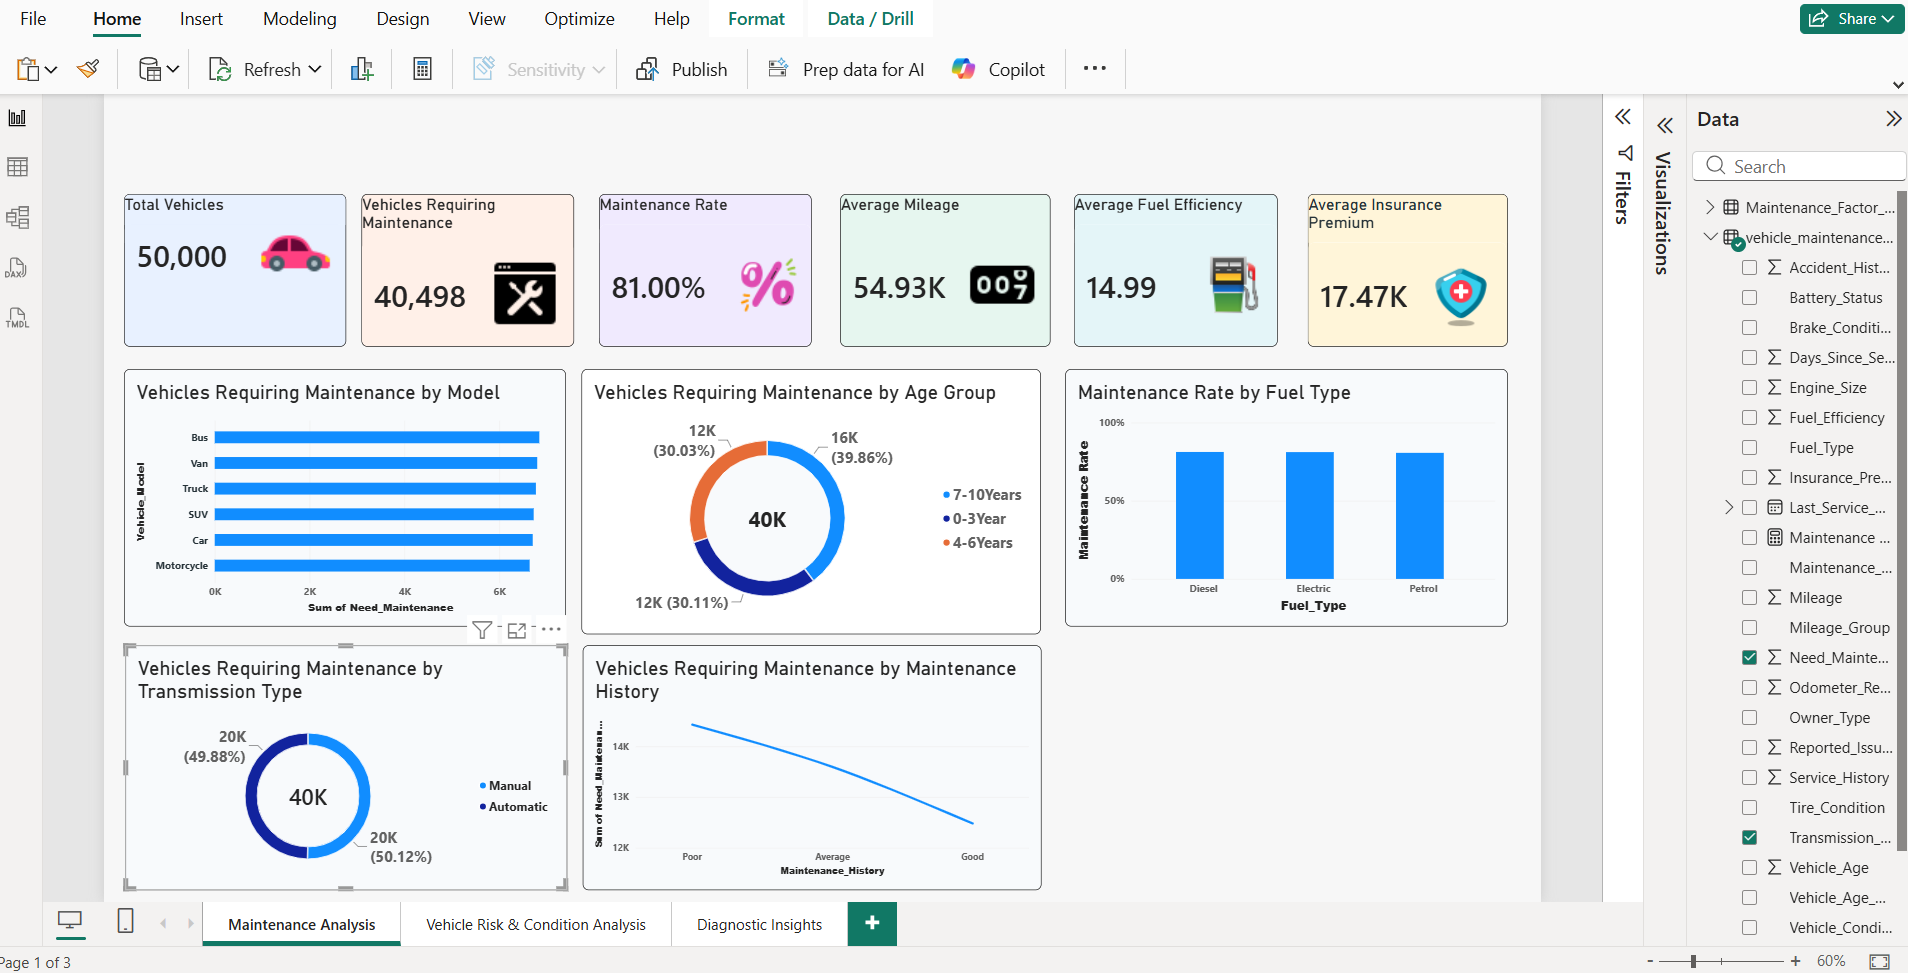

This screenshot's page, from the dashboard's own definition file:
{"tool":"powerbi","page":{"name":"Maintenance Analysis","canvas":[1920,1080],"ordinal":0},"visuals":[{"type":"cardVisual","title":"Total Vehicles","fields":{"Data":["CountNonNull(vehicle_maintenance_final.Vehicle_Model)"]},"box":[26.2,134.3,296.5,204.1],"z":1000},{"type":"cardVisual","title":"Vehicles Requiring Maintenance","fields":{"Data":["Sum(vehicle_maintenance_final.Need_Maintenance)"]},"box":[343.6,134.3,284.3,204.1],"z":2000},{"type":"cardVisual","title":"Maintenance Rate","fields":{"Data":["vehicle_maintenance_final.Maintenance Rate"]},"box":[661,134.3,284.3,204.1],"z":3000},{"type":"cardVisual","title":"Average Mileage","fields":{"Data":["Avg(vehicle_maintenance_final.Mileage)"]},"box":[983.7,134.3,280.8,204.1],"z":4000},{"type":"cardVisual","title":"Average Fuel Efficiency","fields":{"Data":["Avg(vehicle_maintenance_final.Fuel_Efficiency)"]},"box":[1295.9,134.3,272.1,204.1],"z":5000},{"type":"cardVisual","title":"Average Insurance Premium","fields":{"Data":["Avg(vehicle_maintenance_final.Insurance_Premium)"]},"box":[1608.1,134.3,266.9,204.1],"z":6000},{"type":"clusteredBarChart","title":"Vehicles Requiring Maintenance by Model","fields":{"Category":["vehicle_maintenance_final.Vehicle_Model"],"Y":["Sum(vehicle_maintenance_final.Need_Maintenance)"]},"box":[26.2,368,590.7,343.7],"z":7000},{"type":"donutChart","title":"Vehicles Requiring Maintenance by Age Group","fields":{"Category":["vehicle_maintenance_final.Vehicle_Age_Group"],"Y":["Sum(vehicle_maintenance_final.Need_Maintenance)"]},"box":[638.4,368,614,354.1],"z":8000},{"type":"clusteredColumnChart","title":"Maintenance Rate by Fuel Type","fields":{"Category":["vehicle_maintenance_final.Fuel_Type"],"Y":["vehicle_maintenance_final.Maintenance Rate"]},"box":[1283.7,368,591.3,343.6],"z":9000},{"type":"donutChart","title":"Vehicles Requiring Maintenance by Transmission Type","fields":{"Category":["vehicle_maintenance_final.Transmission_Type"],"Y":["Sum(vehicle_maintenance_final.Need_Maintenance)"]},"box":[26.8,753.3,590.7,327.3],"z":10000},{"type":"lineChart","title":"Vehicles Requiring Maintenance by Maintenance History","fields":{"Category":["vehicle_maintenance_final.Maintenance_History"],"Y":["Sum(vehicle_maintenance_final.Need_Maintenance)"]},"box":[638,753,613,327],"z":11000}]}

Visuals, with their boxes on the page's 1920x1080 design canvas (x1, y1, x2, y2). These are canvas units, not pixel positions in the 1908x973 screenshot, which may show the page scaled, cropped or inside an application window:
"Total Vehicles" cardVisual: region(26, 134, 323, 338)
"Vehicles Requiring Maintenance" cardVisual: region(344, 134, 628, 338)
"Maintenance Rate" cardVisual: region(661, 134, 945, 338)
"Average Mileage" cardVisual: region(984, 134, 1264, 338)
"Average Fuel Efficiency" cardVisual: region(1296, 134, 1568, 338)
"Average Insurance Premium" cardVisual: region(1608, 134, 1875, 338)
"Vehicles Requiring Maintenance by Model" clusteredBarChart: region(26, 368, 617, 712)
"Vehicles Requiring Maintenance by Age Group" donutChart: region(638, 368, 1252, 722)
"Maintenance Rate by Fuel Type" clusteredColumnChart: region(1284, 368, 1875, 712)
"Vehicles Requiring Maintenance by Transmission Type" donutChart: region(27, 753, 618, 1081)
"Vehicles Requiring Maintenance by Maintenance History" lineChart: region(638, 753, 1251, 1080)
